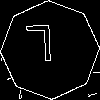L: (25, 25, 54, 72)
